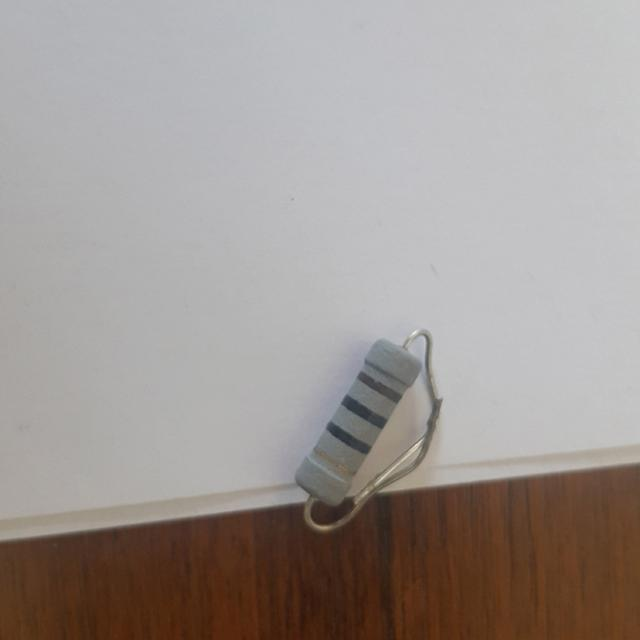black: (326, 421, 370, 454)
blue: (342, 394, 387, 429)
brown: (357, 372, 401, 401)
gold: (313, 447, 354, 475)
resistor: (271, 322, 439, 520)
